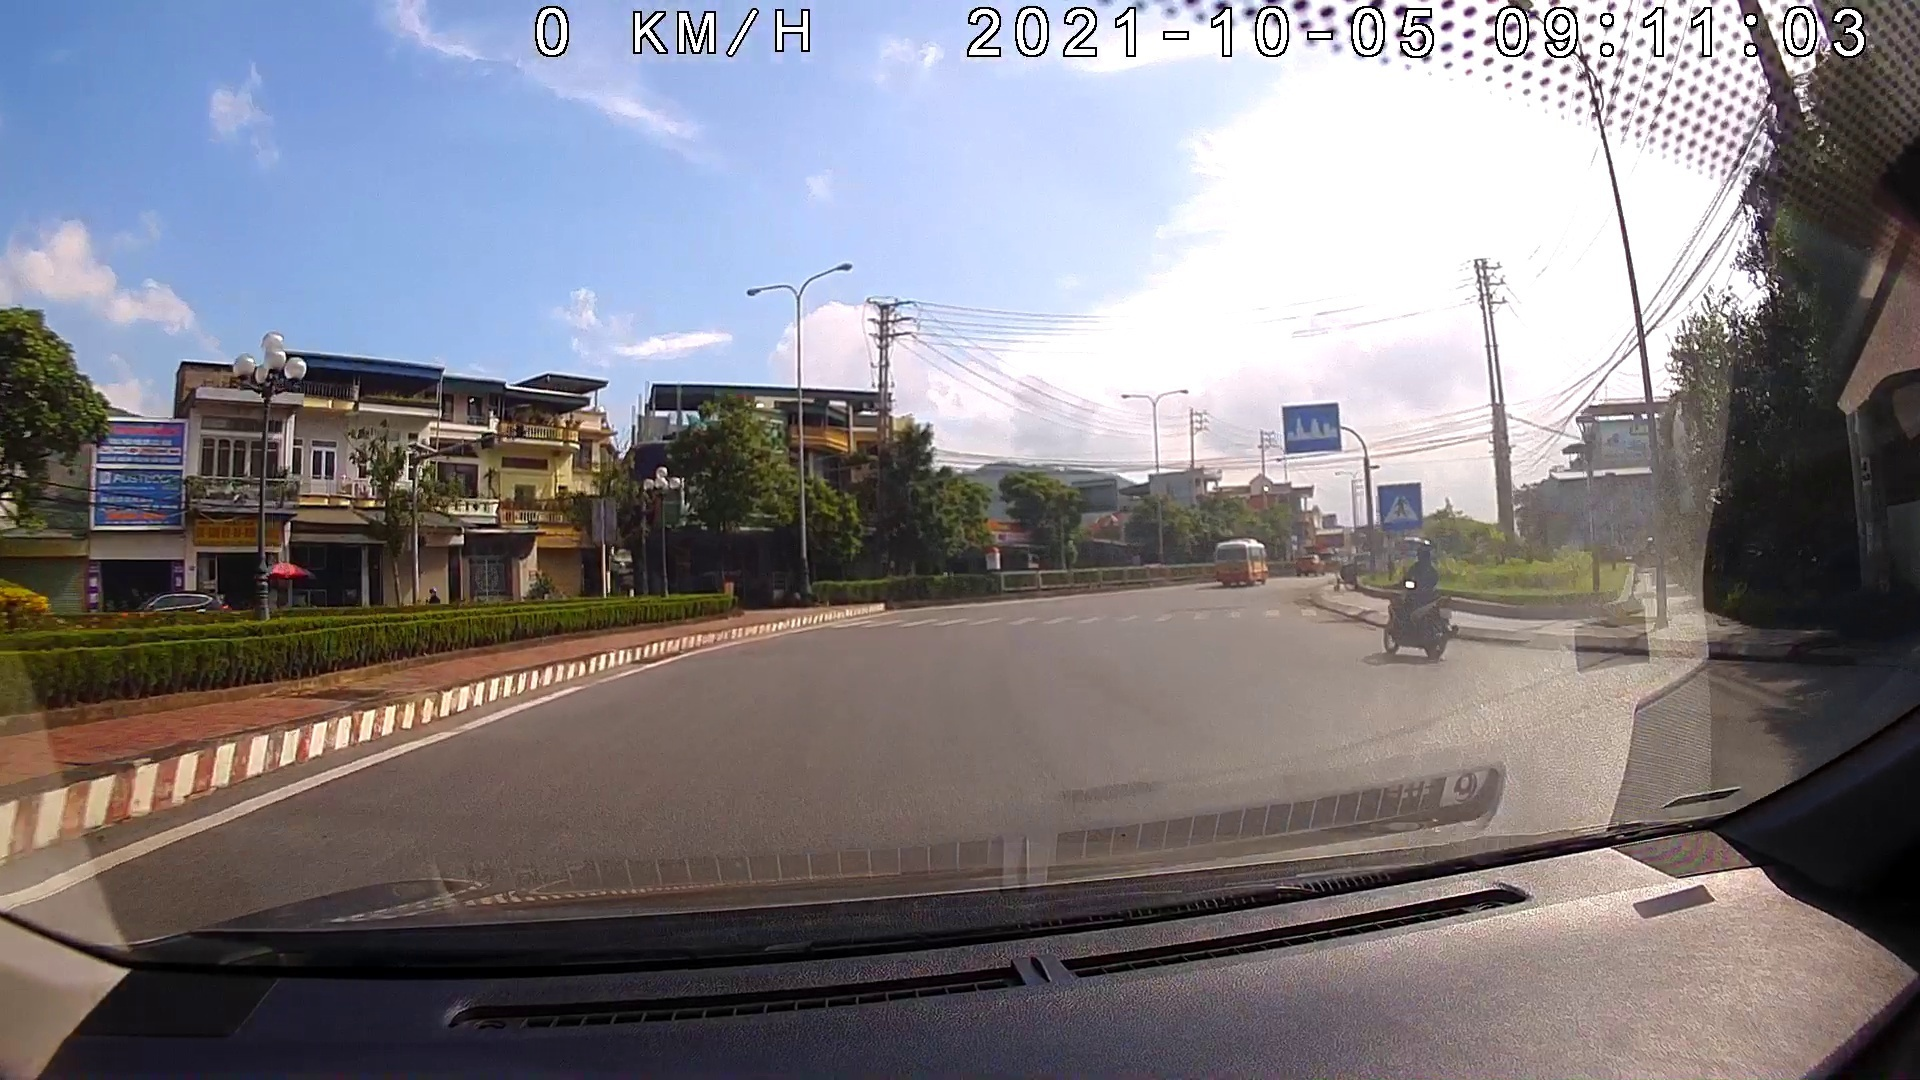Bien khac: (1280, 398, 1342, 455)
Nguoi di bo: (1378, 480, 1422, 534)
